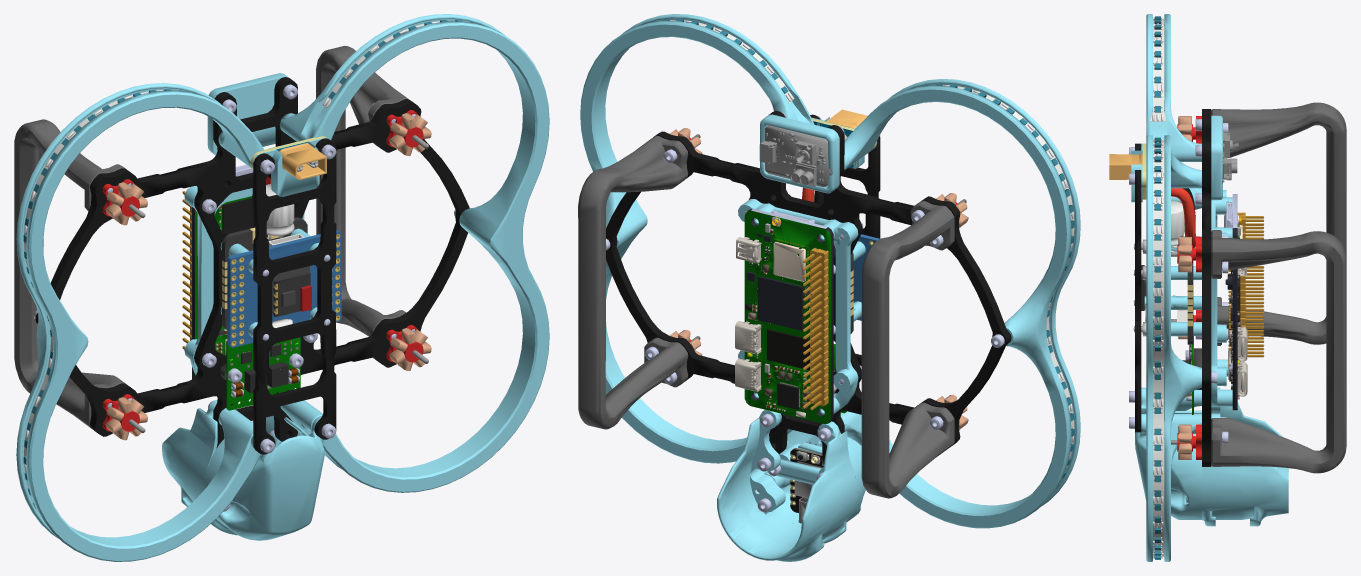
File: obrik_base_clean.obj
3 renders of one model, left to right at view 1: azimuth 30°, elevation 25°; view 2: azimuth 150°, elevation 25°; view 3: azimuth 270°, elevation 25°, orthographic. The views are drawn at different scales.
Visible parts, largest first — view 1: obrik_base_clean; view 2: obrik_base_clean; view 3: obrik_base_clean.
Boxes of the visible parts, left/top/right/bottom form: obrik_base_clean: left=14, top=14, right=549, bottom=561; obrik_base_clean: left=578, top=14, right=1080, bottom=561; obrik_base_clean: left=1109, top=14, right=1346, bottom=561.
Size of the model in its own units: 0.1699 by 0.1552 by 0.0767.
